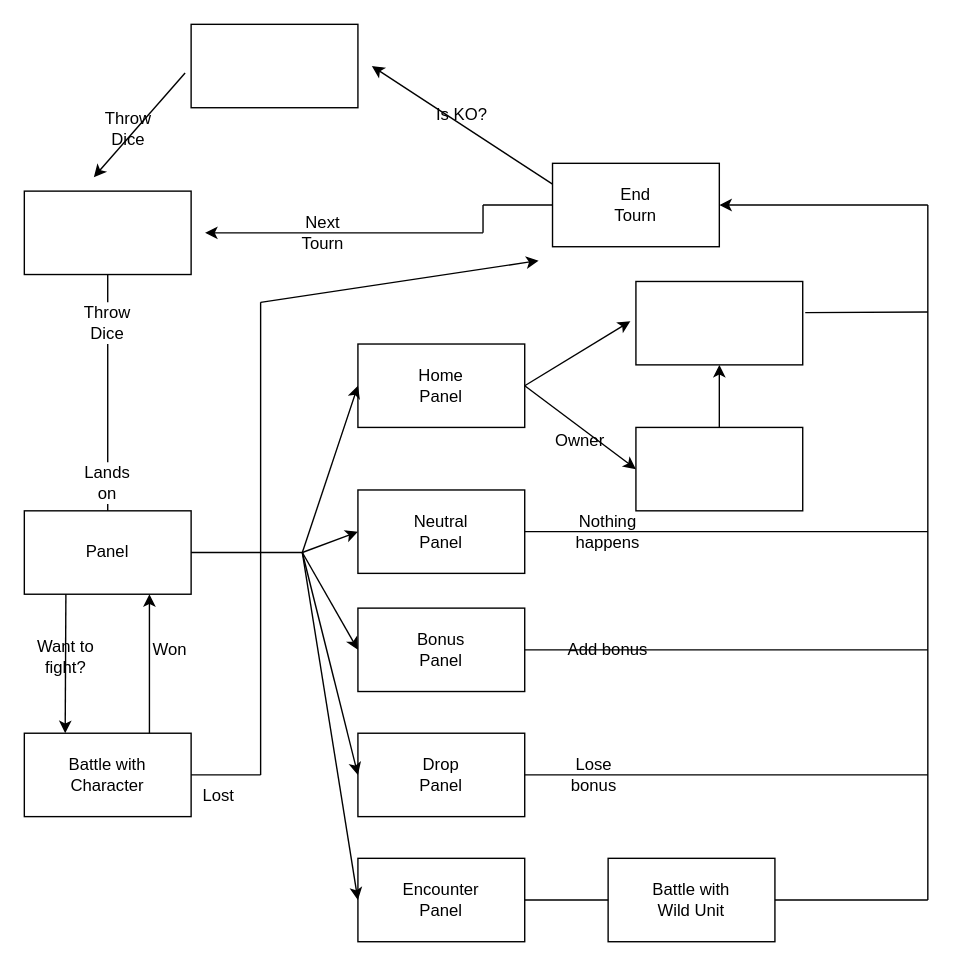
Image size: 963x966. Some labels were removed from this diagram. The centre of each missing label's shape, as x and y in pixels:
"Begin Tourn" belongs at (x=107, y=232).
"Norma Check" belongs at (x=719, y=322).
"Recovery" belongs at (x=274, y=65).
"Stay Here" belongs at (x=719, y=468).
